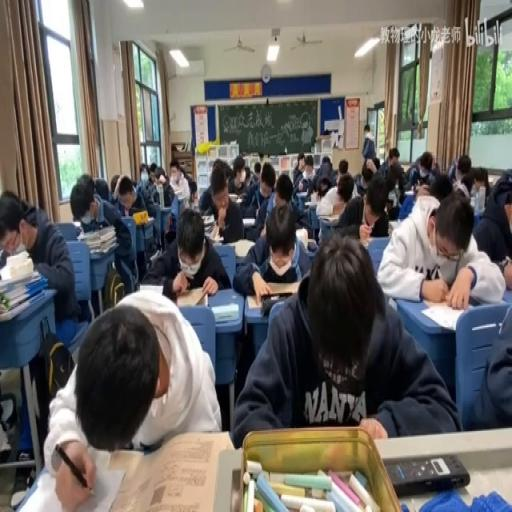calculator: (104, 430, 234, 509), (10, 458, 126, 512), (246, 282, 301, 310), (420, 303, 467, 330), (469, 286, 510, 307), (174, 286, 208, 307), (210, 300, 238, 322), (231, 236, 256, 258), (201, 213, 216, 235), (294, 226, 308, 248), (134, 213, 154, 226), (318, 212, 340, 222), (387, 219, 400, 233), (148, 246, 161, 260), (208, 233, 222, 245), (306, 239, 318, 252), (227, 192, 241, 202), (358, 238, 372, 248), (242, 216, 256, 225), (71, 219, 82, 230), (387, 192, 394, 208), (309, 192, 318, 202), (296, 190, 307, 198), (403, 189, 415, 196), (302, 199, 312, 206)
paper: (232, 232, 454, 446), (0, 186, 78, 448), (74, 172, 138, 294), (149, 204, 229, 298), (466, 291, 512, 431), (472, 171, 512, 266), (338, 169, 387, 235), (132, 166, 166, 250), (198, 162, 228, 213), (404, 148, 435, 189), (380, 161, 405, 209), (170, 161, 196, 203), (293, 154, 318, 196), (226, 155, 250, 196), (358, 140, 378, 184), (427, 172, 453, 203), (273, 170, 291, 204), (330, 222, 360, 242), (260, 164, 275, 196), (92, 175, 110, 200), (458, 174, 474, 200), (457, 155, 470, 176), (446, 158, 457, 180), (414, 182, 430, 196), (110, 172, 120, 194), (148, 160, 158, 180), (210, 158, 222, 173), (260, 151, 270, 168), (253, 159, 260, 181), (338, 158, 347, 175), (389, 148, 399, 163), (189, 189, 197, 206), (140, 164, 147, 180), (157, 175, 166, 186), (429, 155, 436, 169), (373, 156, 380, 168), (322, 155, 330, 165), (298, 158, 304, 169), (364, 125, 370, 134)
person: (384, 452, 470, 494)
